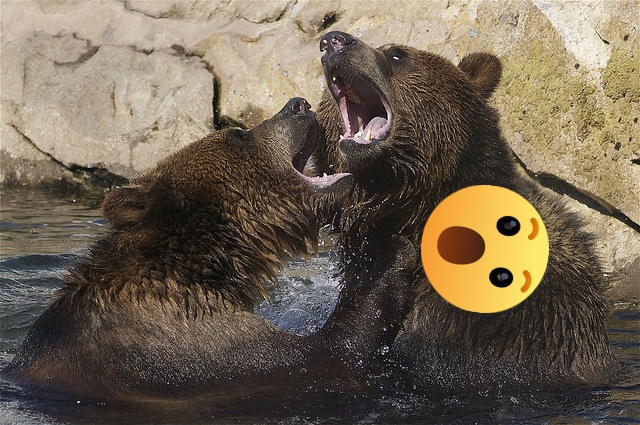wow: (421, 185, 549, 313)
